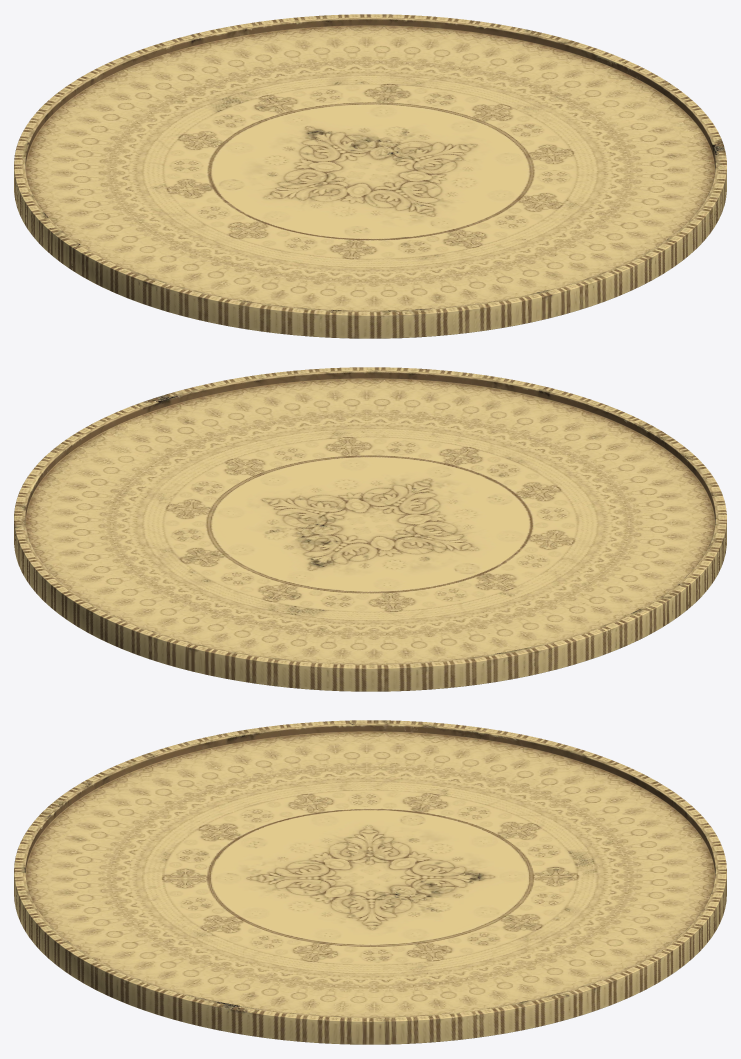
The model's file is gold-coin.glb.
3 renders of one model, top to bottom at view 1: azimuth 30°, elevation 25°; view 2: azimuth 150°, elevation 25°; view 3: azimuth 270°, elevation 25°, orthographic.
Visible parts, largest first — view 1: Coin Gold Ornamental; view 2: Coin Gold Ornamental; view 3: Coin Gold Ornamental.
Boxes of the visible parts, x1,y1,x2,y2 form: Coin Gold Ornamental: (14, 14, 726, 338); Coin Gold Ornamental: (14, 367, 726, 691); Coin Gold Ornamental: (14, 720, 726, 1044).
Bounding box in the file's own units: 0.0344 × 0.00126 × 0.0344.
Materials: 1 (1 with a texture image).
